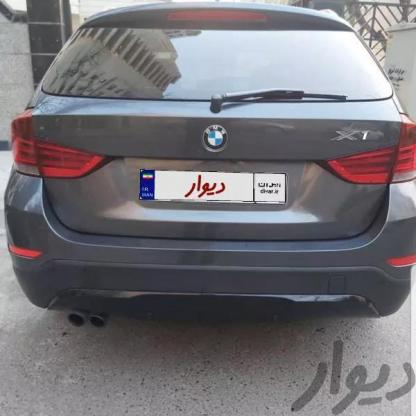Car: (0, 0, 416, 358)
